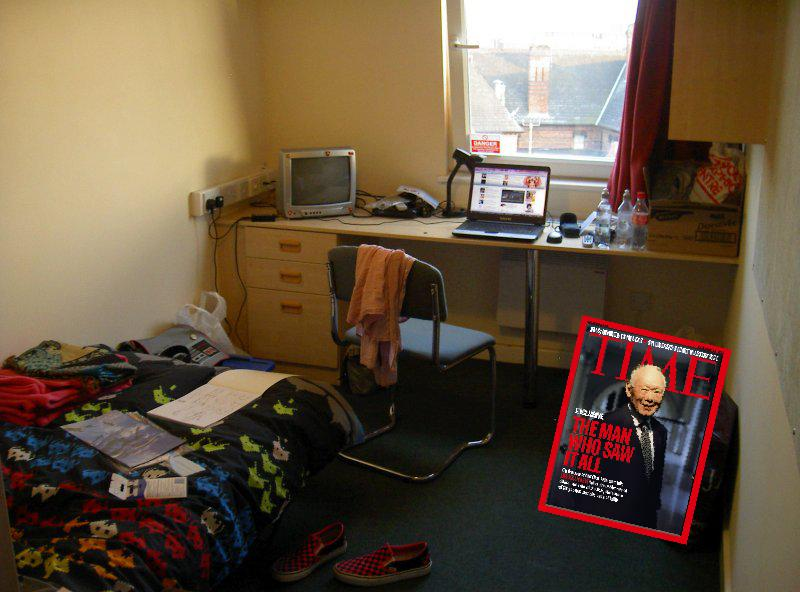times: (535, 315, 735, 549)
